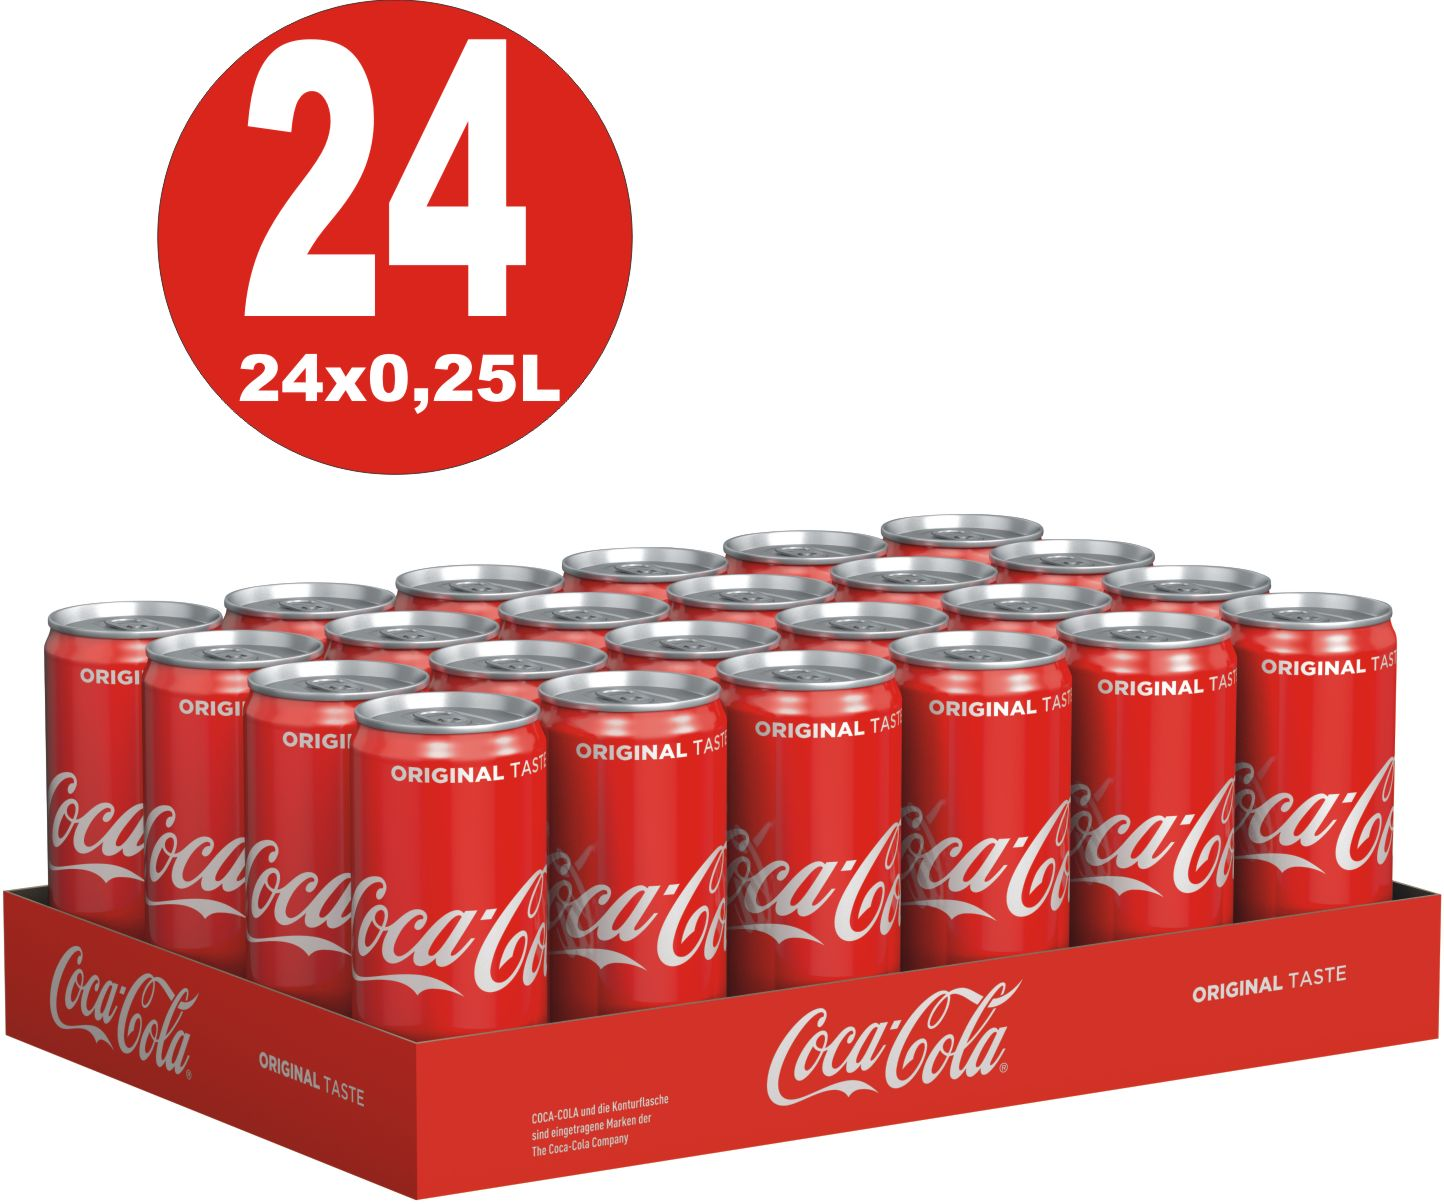Coca-Cola: (1231, 614, 1416, 926), (905, 654, 1091, 965), (351, 714, 536, 1027), (1053, 625, 1238, 938), (535, 697, 720, 1009), (729, 680, 913, 992), (35, 633, 150, 945), (149, 669, 252, 974), (254, 702, 345, 1003)
